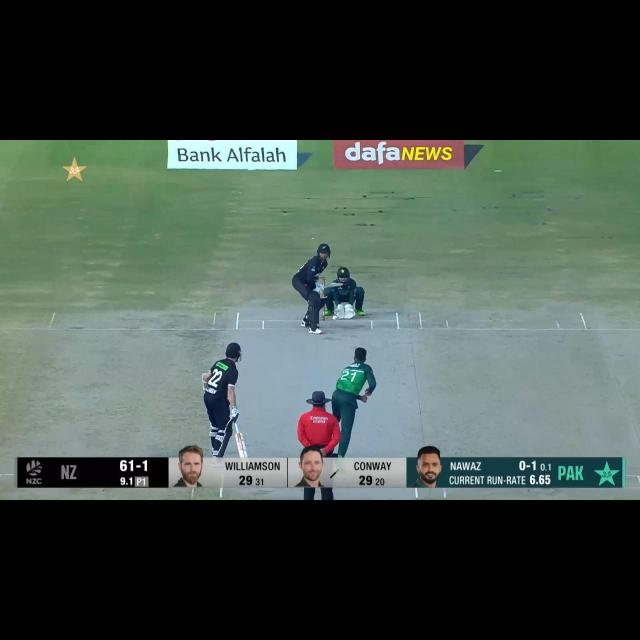bat: (232, 430, 253, 463), (318, 280, 344, 290)
toe: (336, 281, 344, 288)
